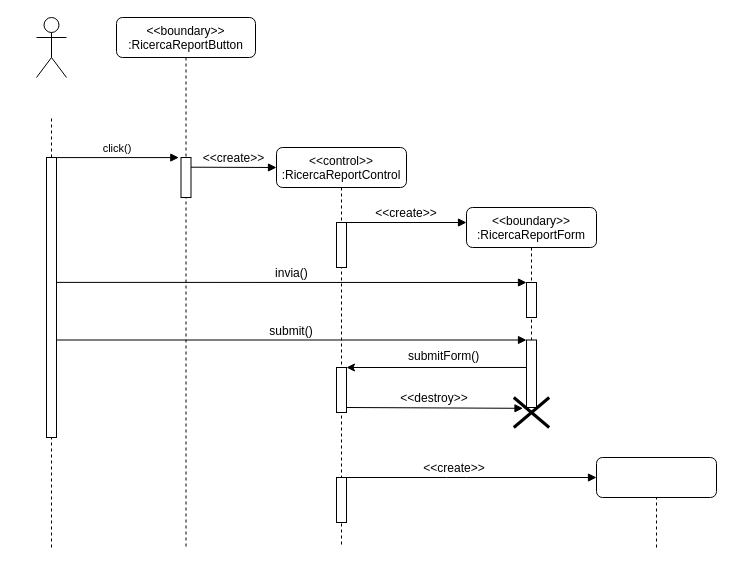
This 734x566 diagram has some shape labels left out. The centre of each missing label's shape, as x and y in pixels:
":Direttore di Dipartimento" goes at [51,47].
"<<entity>> :Report" goes at [656,477].
